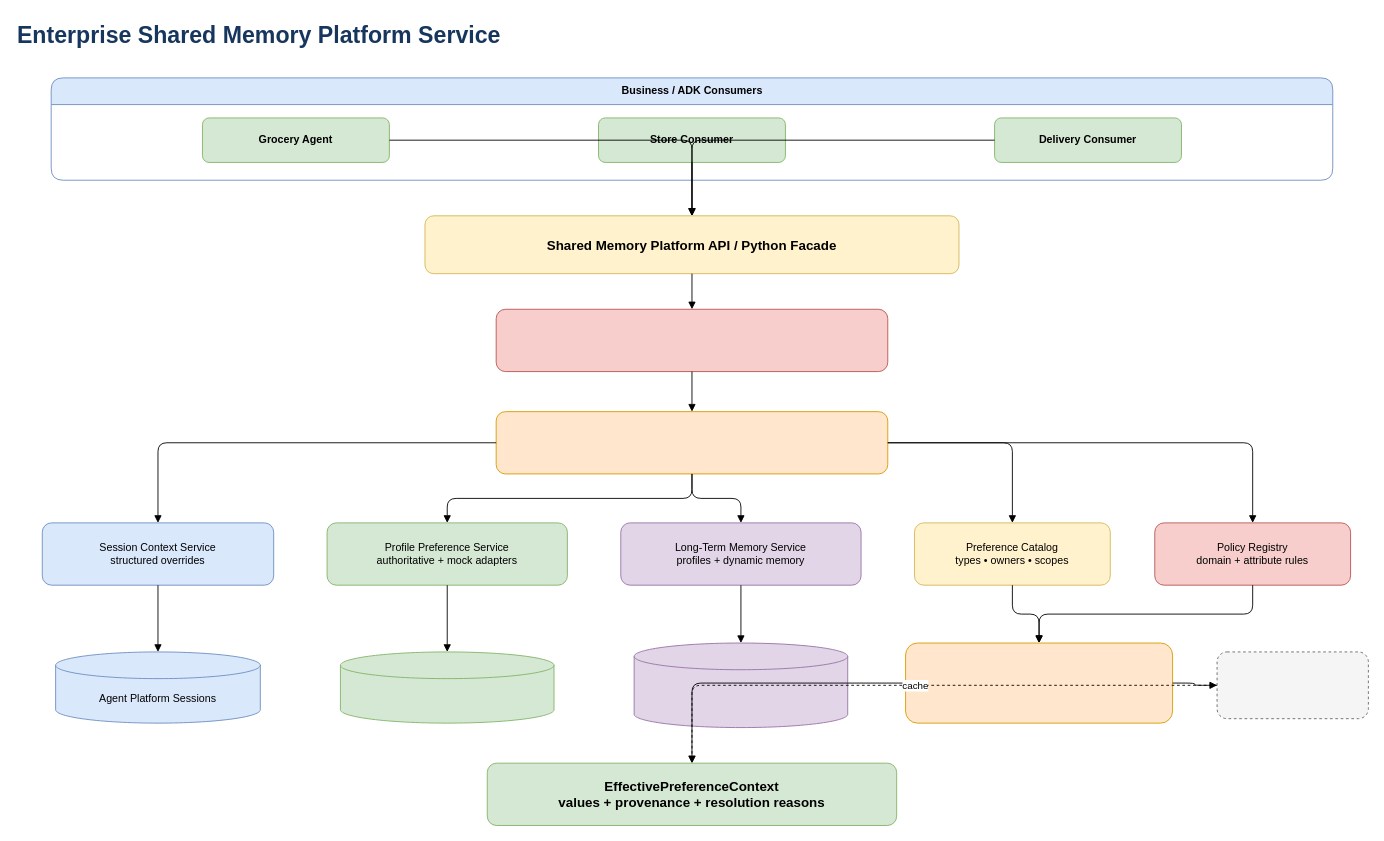
The diagram is 1384 pixels wide and 841 high, and some of its shapes have lost their labels. The centre of each missing label's shape, as x and y in pixels:
Agent Platform Memory Bank dynamic domain memories: point 740,685
Derived Snapshot not source of truth: point 1292,685
Identity + Domain Authorization explicit read/write allowlists: point 691,340
PreferenceContextService parallel orchestration + validation: point 691,442
Profile API / Memory Profiles: point 447,687
Pure PreferenceResolver source + domain + recency + confidence: point 1039,682
